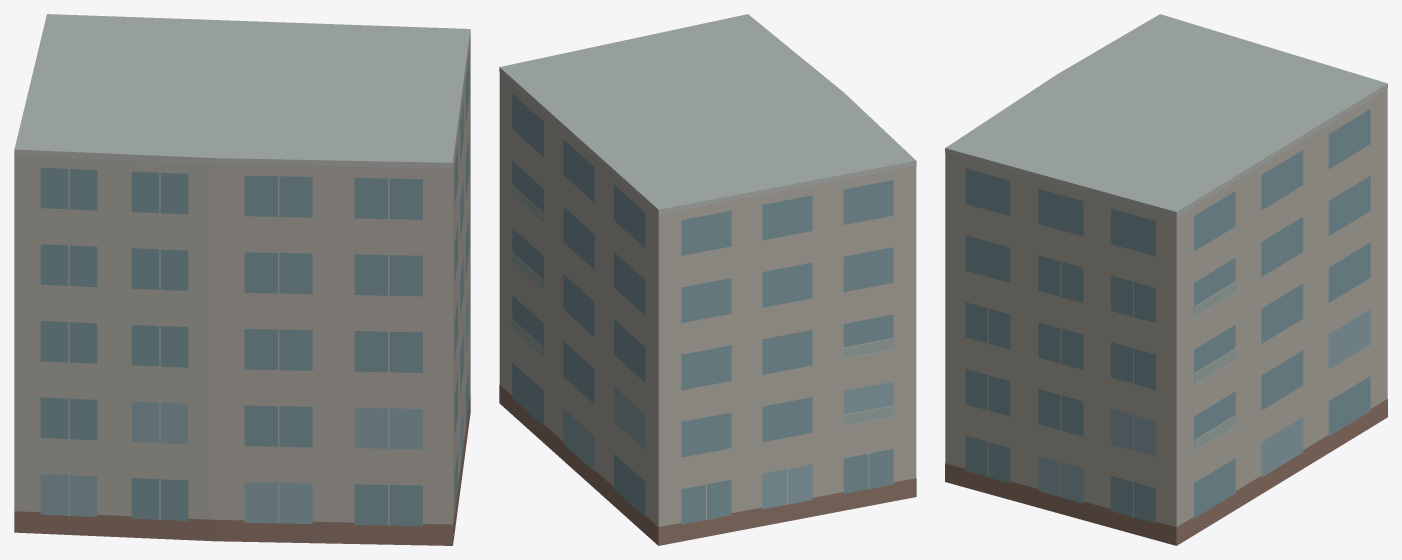
Rendered from survey-upis-32772533.glb.
3 views of the same model, side by side, from view 1: azimuth 30°, elevation 25°; view 2: azimuth 150°, elevation 25°; view 3: azimuth 270°, elevation 25° (orthographic). The views are drawn at different scales.
Visible parts, largest first — view 1: survey-upis-32772533.tmp; view 2: survey-upis-32772533.tmp; view 3: survey-upis-32772533.tmp.
Boxes of the visible parts, x1,y1,x2,y2 form: survey-upis-32772533.tmp: [14, 14, 470, 545]; survey-upis-32772533.tmp: [499, 14, 916, 545]; survey-upis-32772533.tmp: [945, 14, 1387, 545].
Size of the model in its own units: 20.68 by 16.25 by 19.53.
